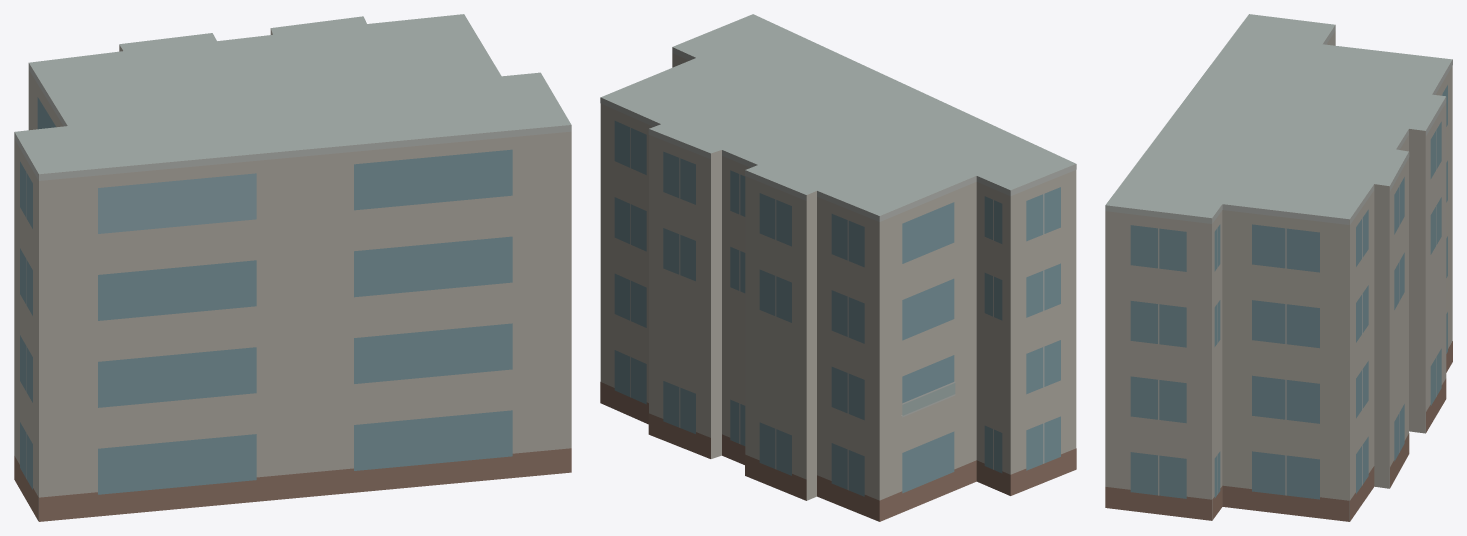
File: survey-upis-32475002.glb
3 views of the same model, side by side, from view 1: azimuth 30°, elevation 25°; view 2: azimuth 150°, elevation 25°; view 3: azimuth 270°, elevation 25° (orthographic). The views are drawn at different scales.
Parts seen in each view (by area): view 1: survey-upis-32475002.tmp; view 2: survey-upis-32475002.tmp; view 3: survey-upis-32475002.tmp.
Boxes of the visible parts, <box> form: survey-upis-32475002.tmp: <box>14,14,571,521</box>; survey-upis-32475002.tmp: <box>600,14,1076,521</box>; survey-upis-32475002.tmp: <box>1105,14,1452,521</box>.
Bounding box in the file's own units: 18.34 × 12.6 × 13.12.
